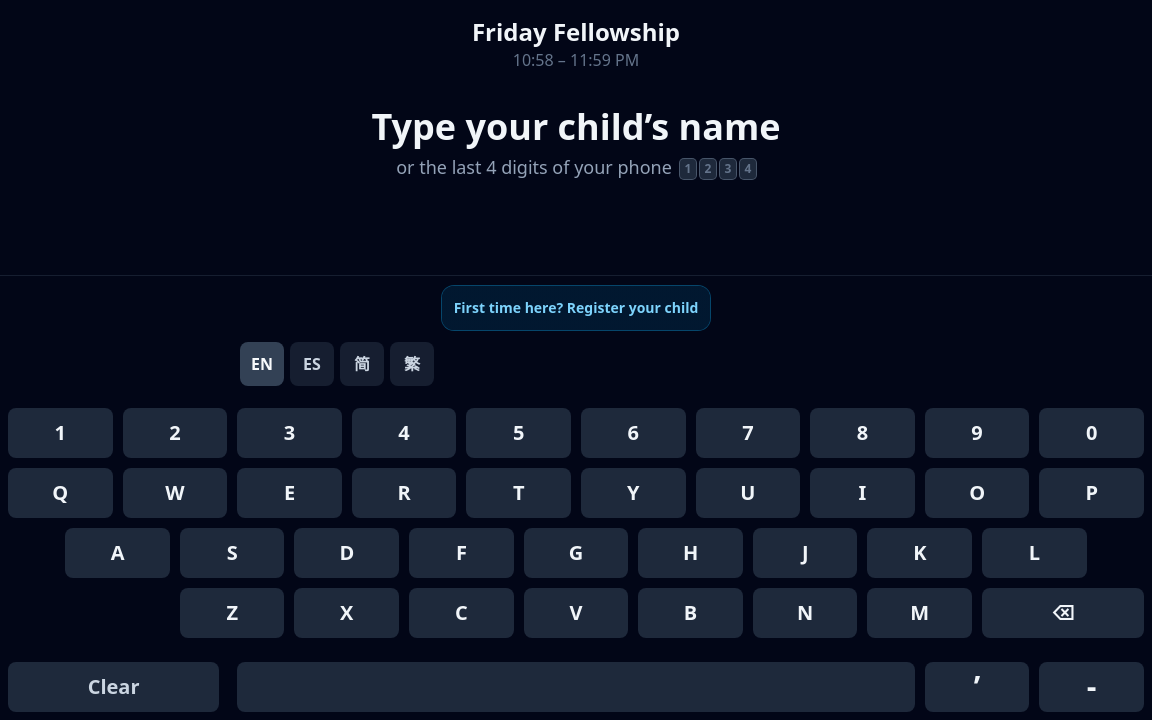
Test: a mark on a digit buffer › is still typed into a name, where it belongs
This screenshot has width=1152, height=720.
Press the mouse on the button "O": (977, 493) [925, 468, 1029, 518]
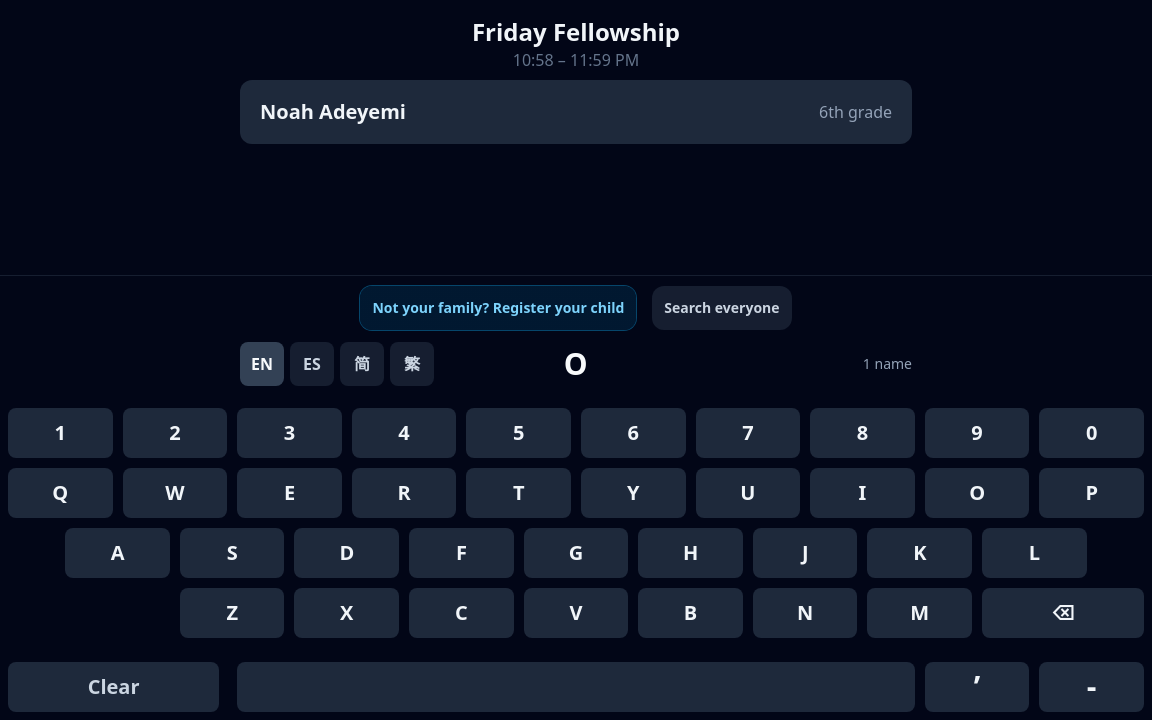
Press the mouse on the button "’": (977, 687) [925, 662, 1029, 712]
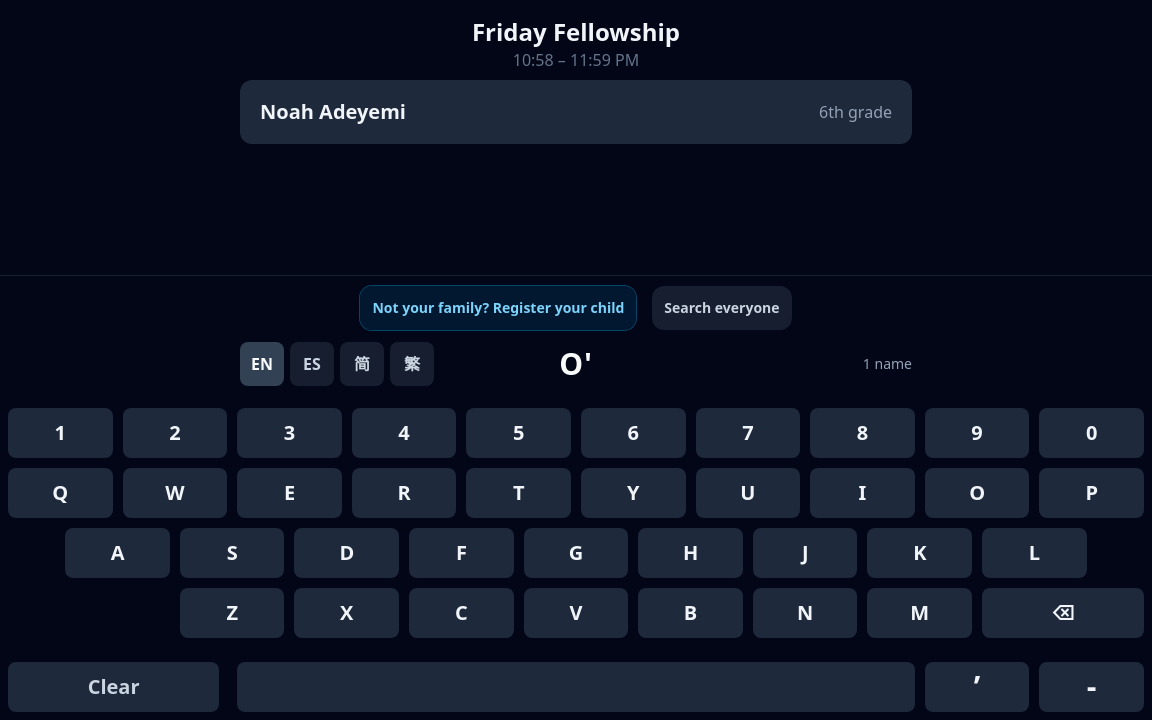
Press the mouse on the button "B": (691, 613) [638, 588, 743, 638]
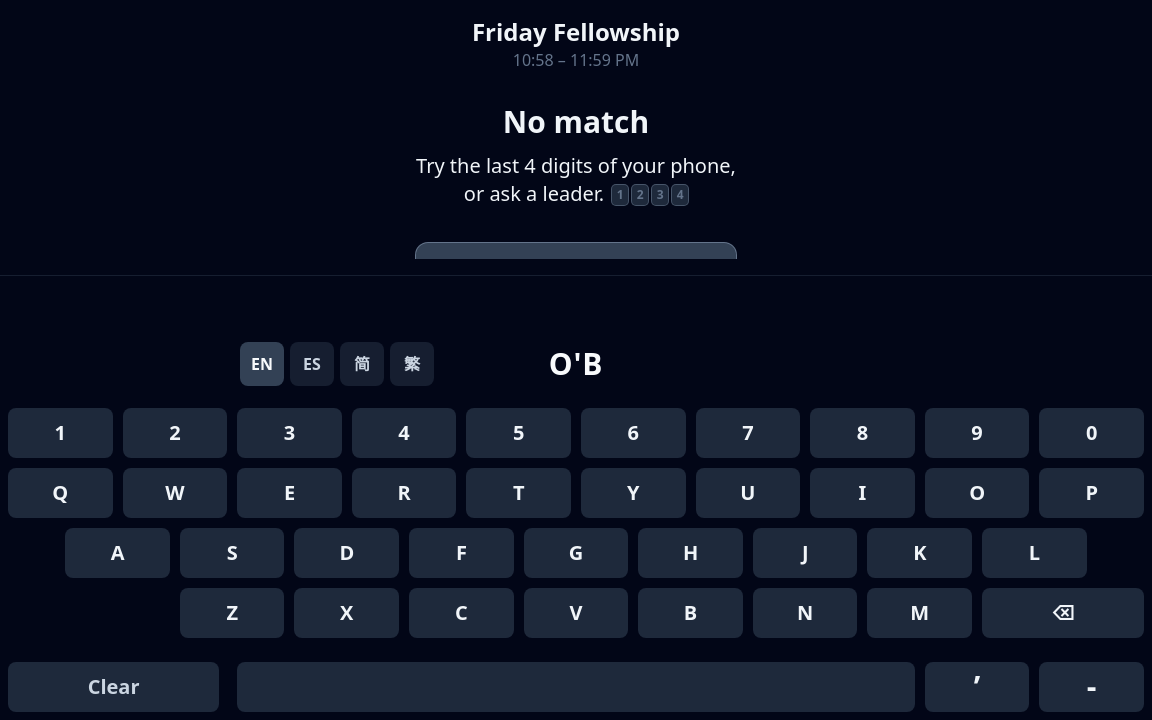
Now the text "O'B" is shown, box [549, 346, 603, 382]
